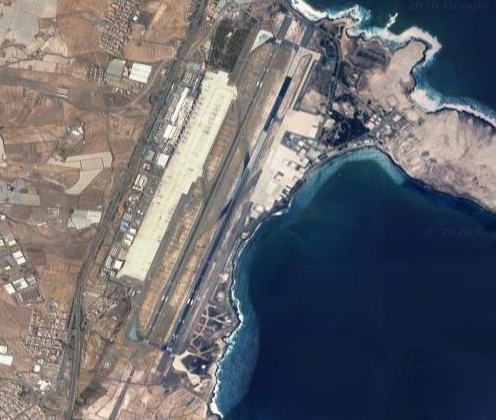airport: (114, 15, 317, 377)
motorway: (73, 251, 93, 305), (146, 80, 169, 126), (168, 36, 191, 82), (93, 208, 116, 253), (108, 165, 131, 210), (126, 123, 149, 168), (65, 363, 78, 420), (71, 306, 84, 363), (186, 1, 206, 35)
